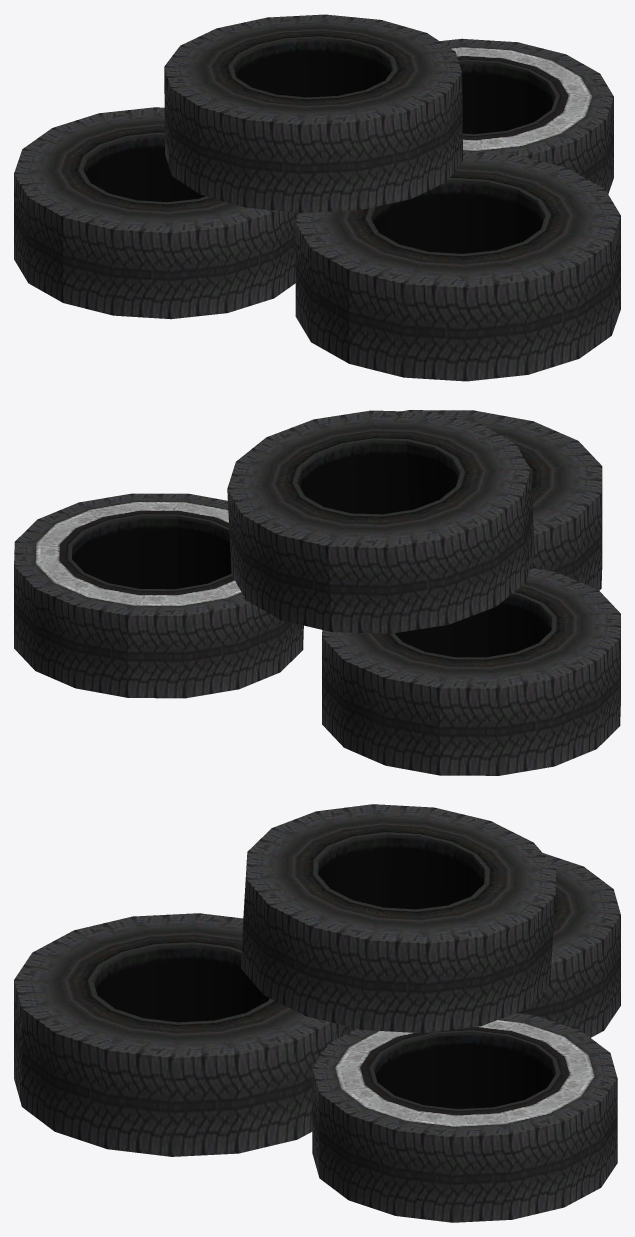
The model's file is tire_four_stack_variation.fbx.
3 renders of one model, top to bottom at view 1: azimuth 30°, elevation 25°; view 2: azimuth 150°, elevation 25°; view 3: azimuth 270°, elevation 25°, orthographic. The views are drawn at different scales.
Visible parts, largest first — view 1: mesh_0; view 2: mesh_0; view 3: mesh_0.
Part boxes in pixels (box(x1,y1,x2,y2)): mesh_0: box(14, 14, 620, 381); mesh_0: box(14, 410, 620, 775); mesh_0: box(14, 804, 620, 1222).
Bounding box in the file's own units: 141 × 44.62 × 125.
1 material, 1 textured.
